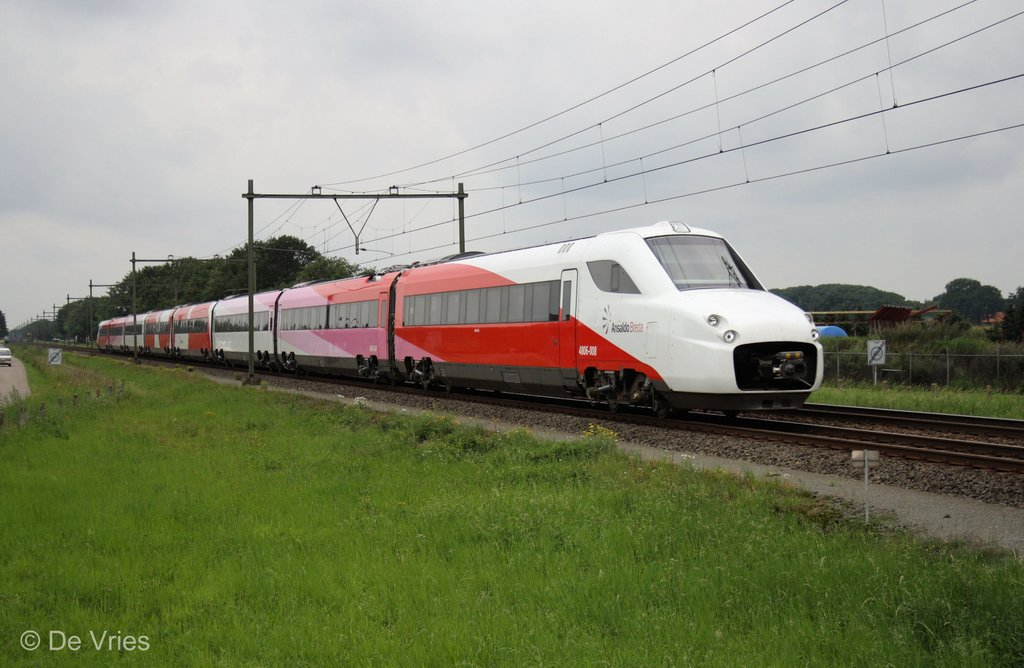train: (96, 215, 822, 418)
